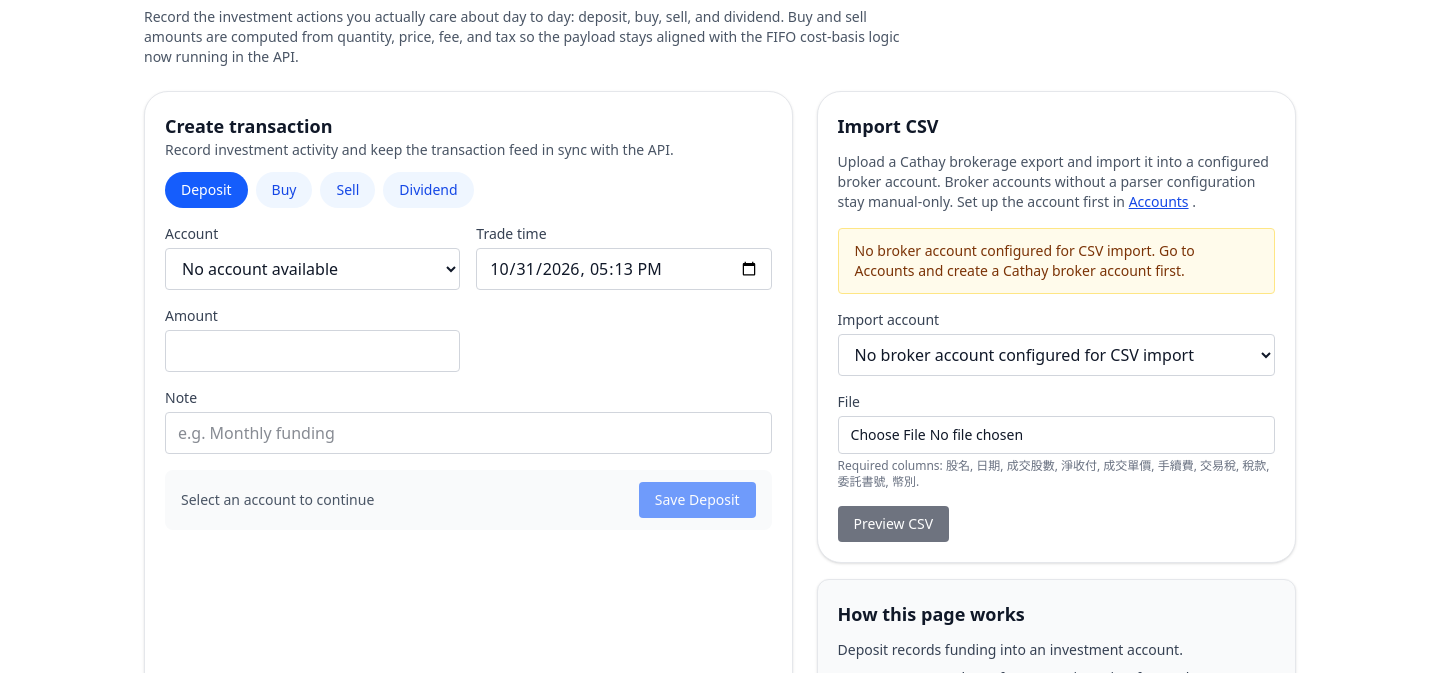
Test: Transactions page trade flows › shows the backend oversell error when a sell submission is rejected
Click the button "Sell".
click(348, 190)  # box x1=320 y1=172 x2=375 y2=208
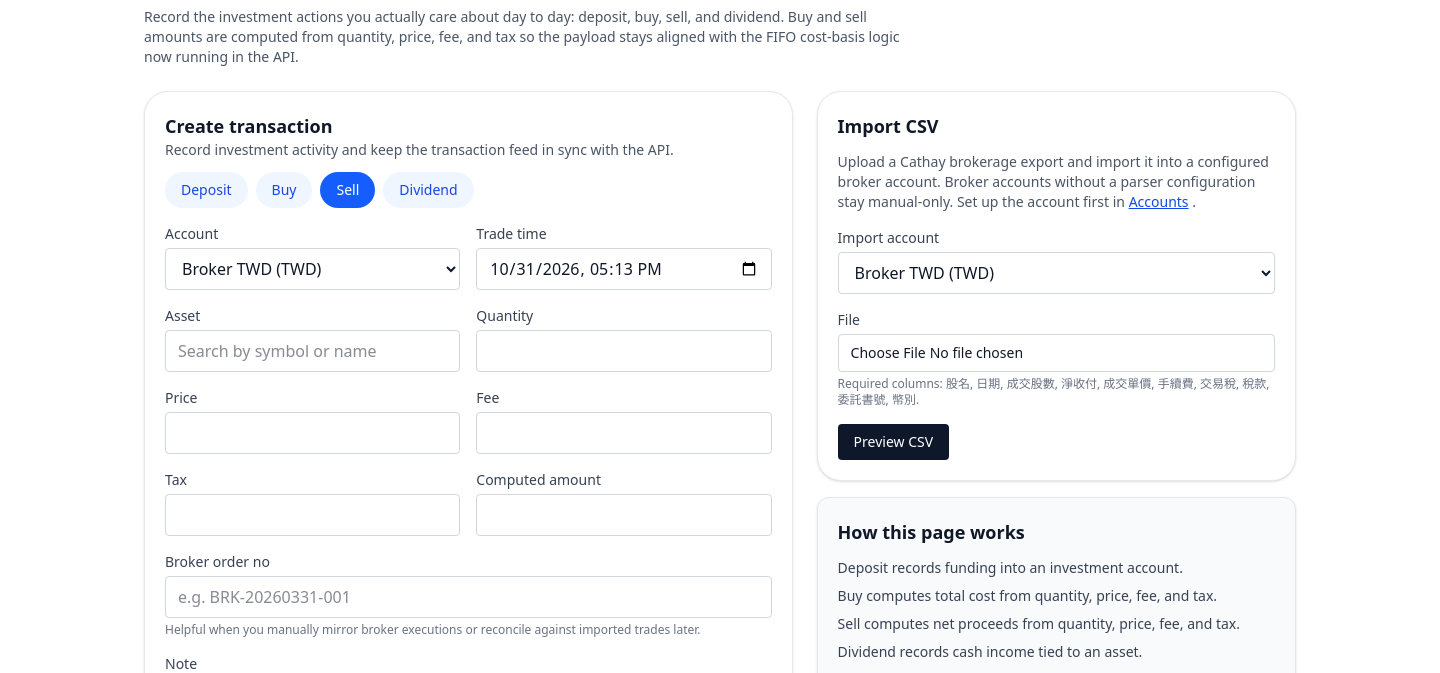
Type "2330" into the search field labelled "Asset".
click(313, 351); type("2330")  # box x1=165 y1=330 x2=460 y2=372
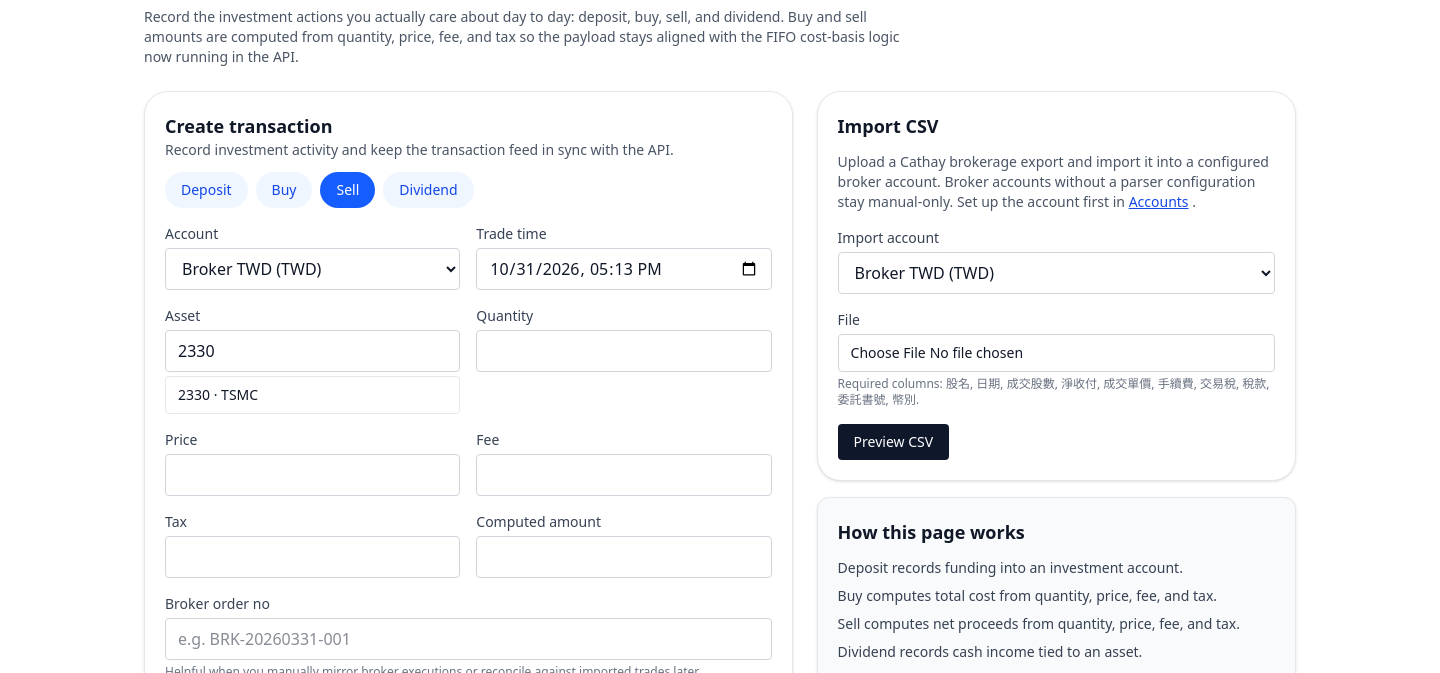
Click the button "2330 · TSMC".
click(194, 394)  # box x1=166 y1=377 x2=459 y2=413
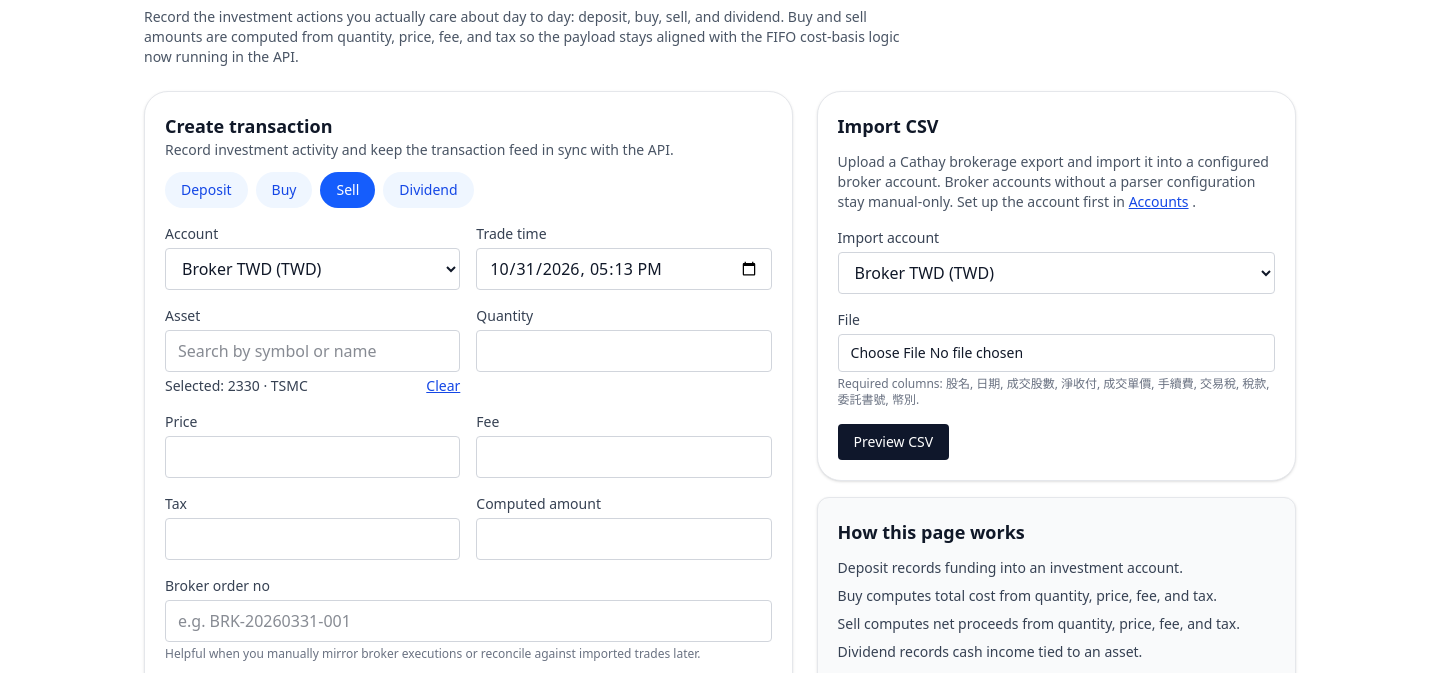
Type "999" into the number field labelled "Quantity".
click(624, 351); type("999")  # box x1=476 y1=330 x2=772 y2=372
Type "100" into the number field labelled "Price".
click(313, 457); type("100")  # box x1=165 y1=436 x2=460 y2=478
Type "15" into the number field labelled "Fee".
click(624, 457); type("15")  # box x1=476 y1=436 x2=772 y2=478
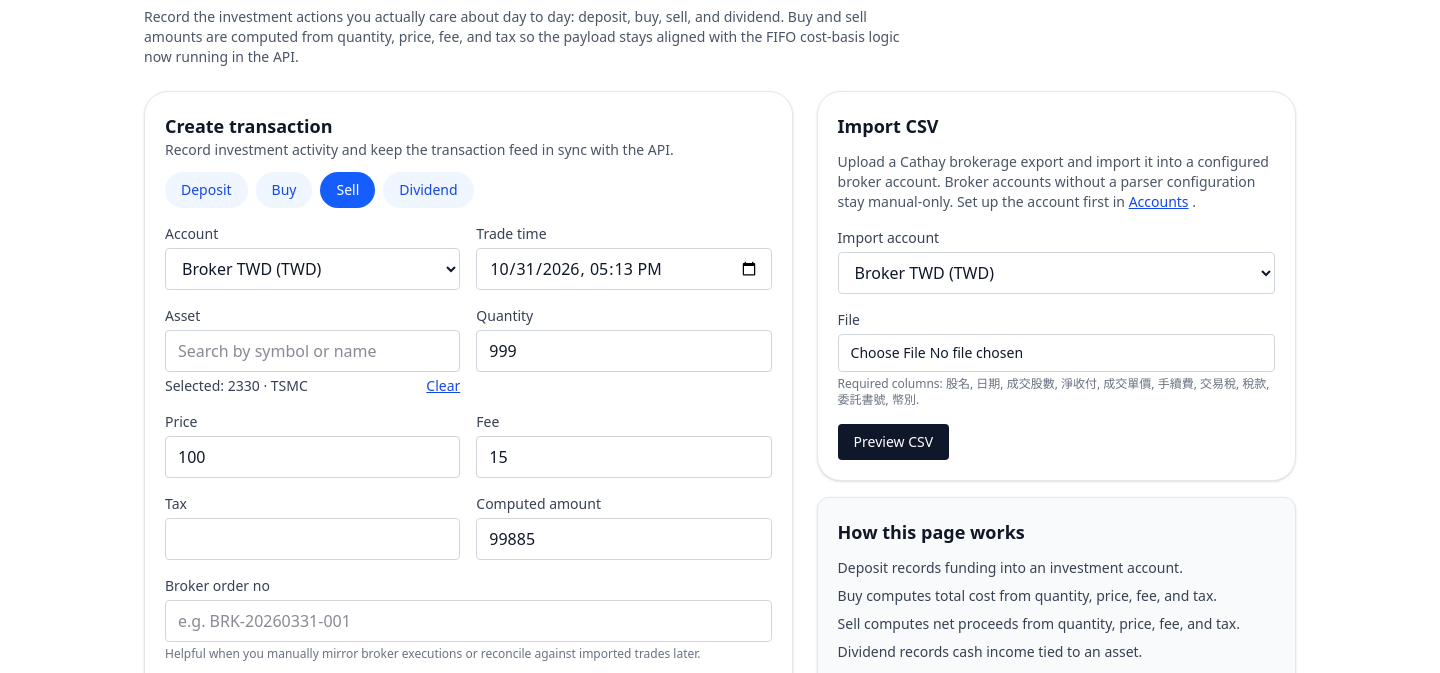
Type "5" into the number field labelled "Tax".
click(313, 539); type("5")  # box x1=165 y1=518 x2=460 y2=560
(page scrolled)
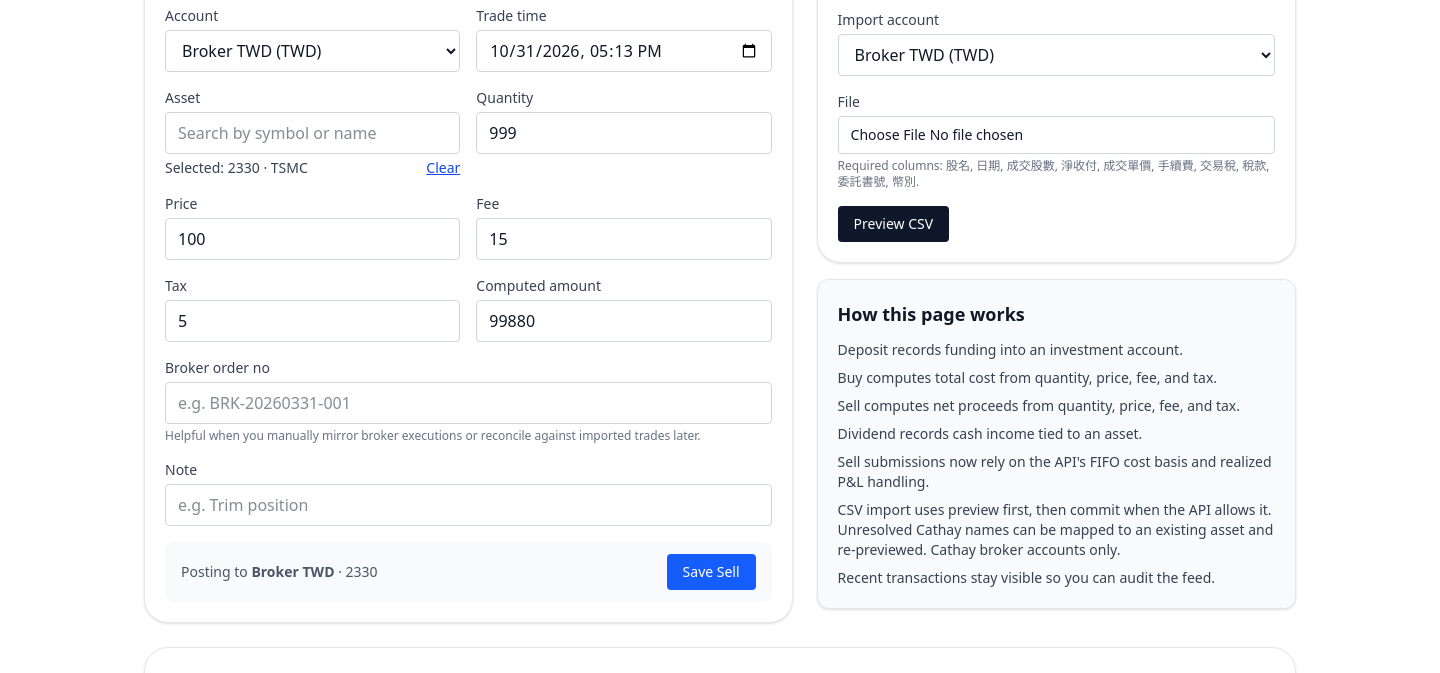
Click the button "Save Sell".
click(711, 572)  # box x1=667 y1=554 x2=756 y2=590
(page scrolled)
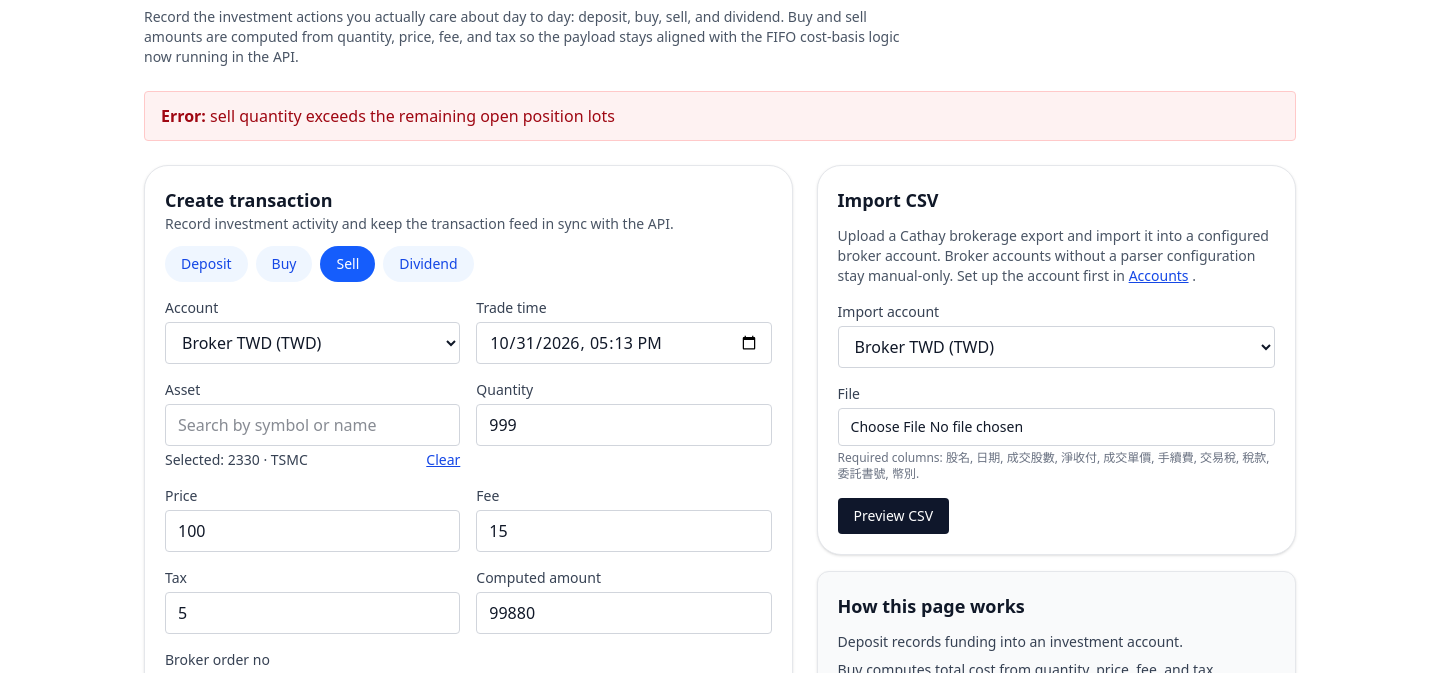
Check: the text "sell quantity exceeds the remaining open position lots" is shown, box x1=210 y1=105 x2=615 y2=127
